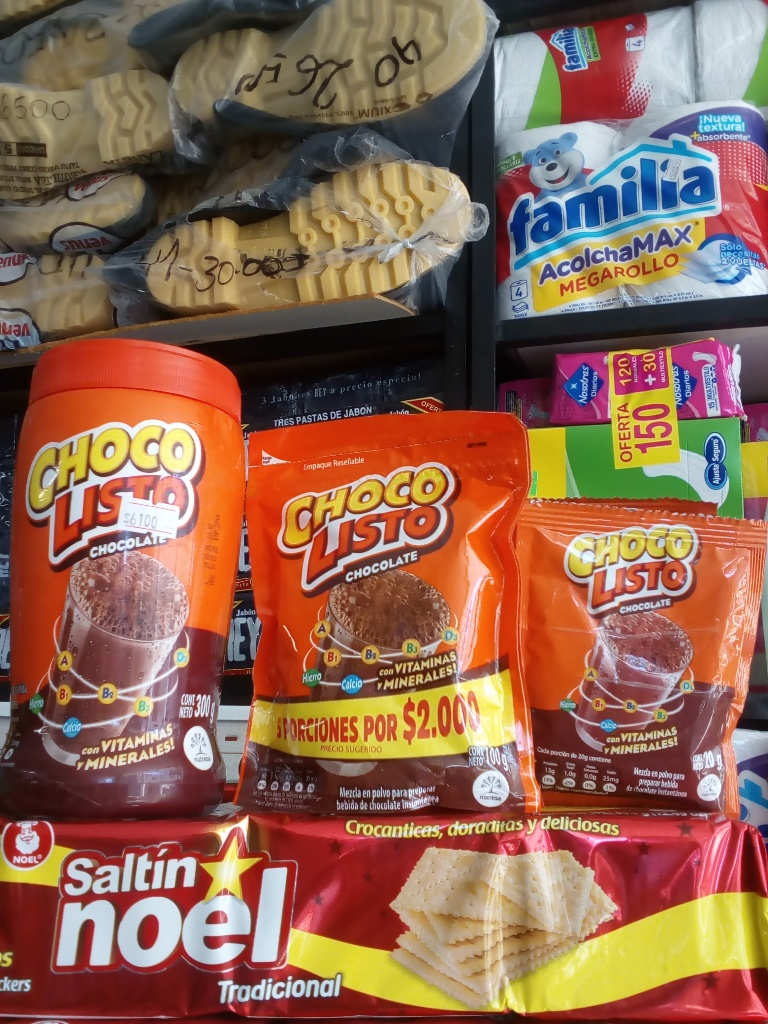COL0170103SOB02000: (525, 490, 758, 822)
